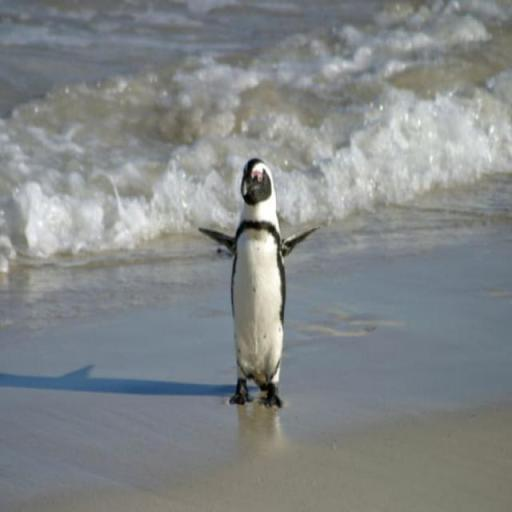penguins: (198, 156, 318, 425)
